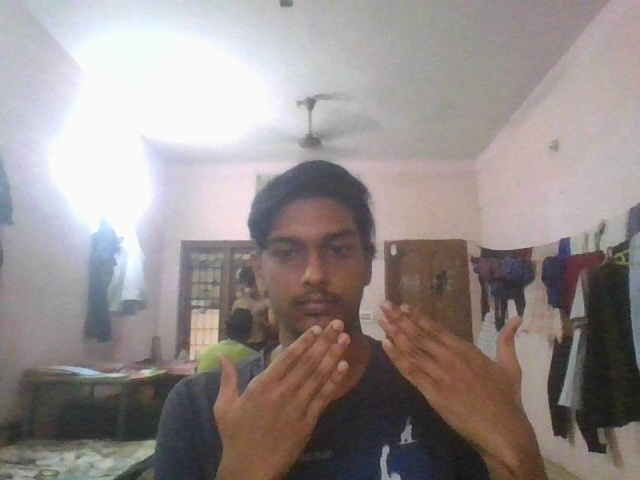thankyou: (209, 301, 535, 460)
